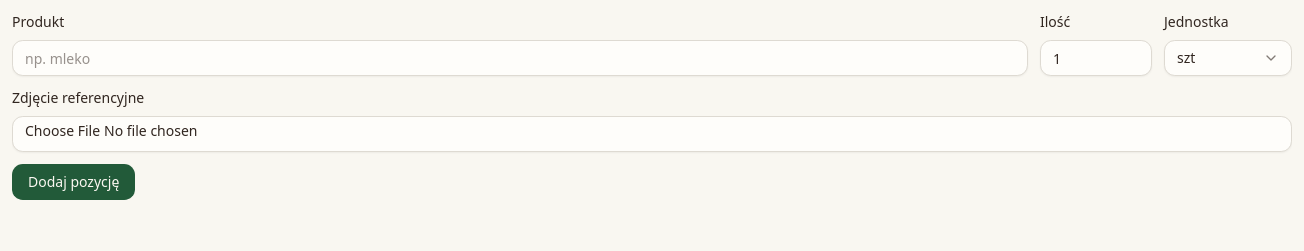
Test case: AddItemForm › nie wysyła pustej nazwy
This screenshot has width=1304, height=251.
Click the button with test id "add-item-submit" at point(74, 182), box [12,164,135,200]
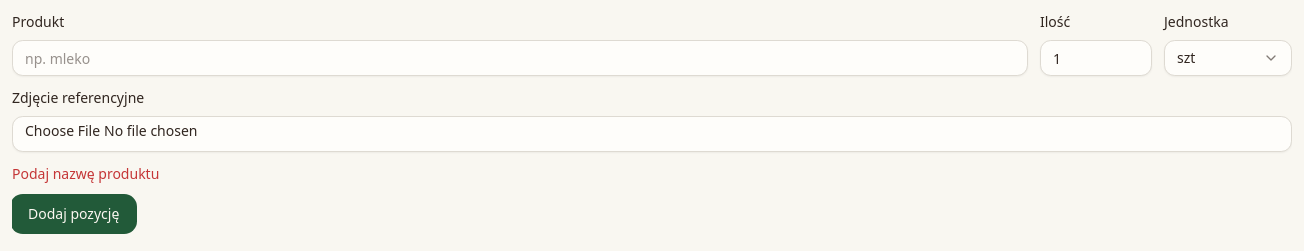
Expected: the text "Podaj nazwę produktu" is shown, [12,164,159,183]
